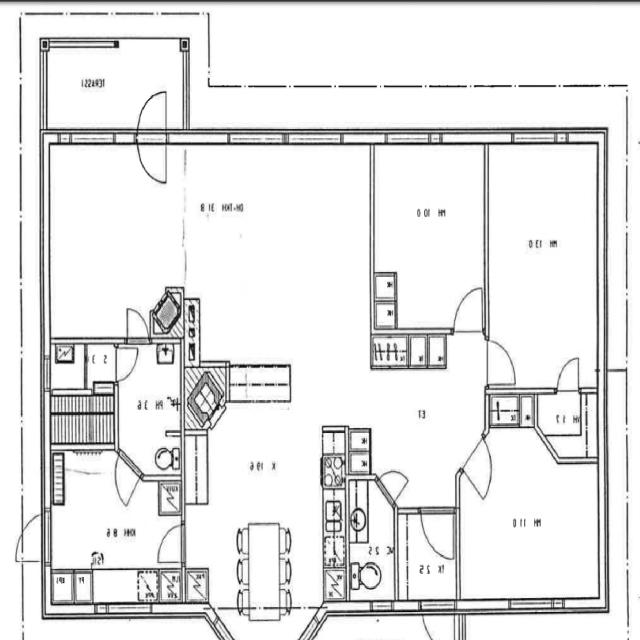door: (462, 435, 506, 499), (103, 450, 143, 508), (7, 513, 51, 563), (376, 454, 411, 506), (421, 508, 454, 562), (137, 128, 166, 186), (137, 86, 166, 144), (486, 340, 520, 384), (453, 286, 482, 334), (421, 603, 454, 640), (186, 186, 216, 224), (186, 224, 216, 261), (156, 525, 185, 562), (114, 347, 142, 382), (558, 356, 579, 393), (128, 308, 148, 343)
